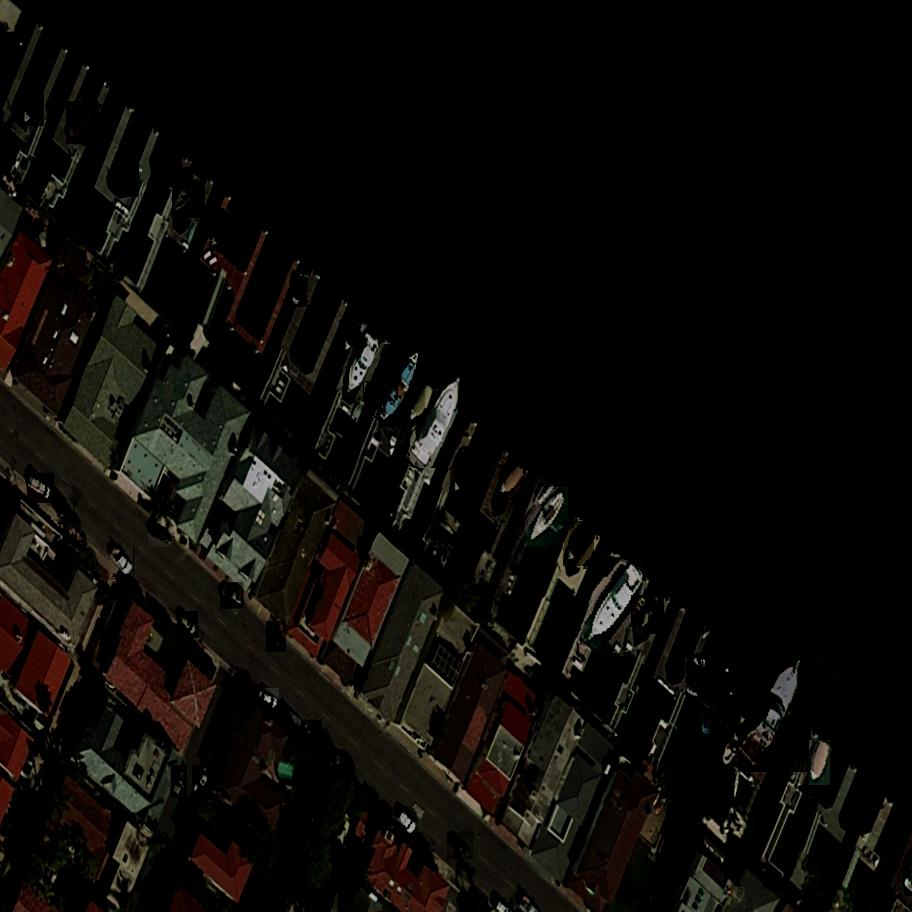ship: (733, 648, 815, 772), (407, 368, 471, 468), (578, 562, 649, 650), (376, 345, 429, 428), (522, 487, 571, 548), (341, 332, 384, 401), (170, 168, 208, 218), (562, 521, 600, 568), (63, 101, 102, 144), (448, 450, 482, 497), (206, 210, 241, 251), (19, 84, 47, 126), (411, 382, 437, 427), (496, 464, 528, 500), (718, 732, 745, 773), (809, 741, 833, 786), (642, 589, 665, 635), (736, 687, 760, 730), (158, 152, 185, 188), (120, 158, 140, 197), (363, 382, 383, 417), (631, 596, 653, 626), (344, 318, 361, 356), (292, 270, 308, 307), (690, 655, 702, 698), (701, 702, 712, 736)
small-vehicle: (24, 473, 60, 504), (107, 543, 137, 580), (48, 486, 76, 524), (393, 806, 422, 838), (444, 833, 477, 859), (215, 583, 248, 609), (298, 721, 325, 752), (145, 522, 178, 547), (190, 765, 213, 800), (173, 612, 202, 638), (264, 621, 288, 652), (255, 688, 285, 712), (169, 765, 189, 798)
